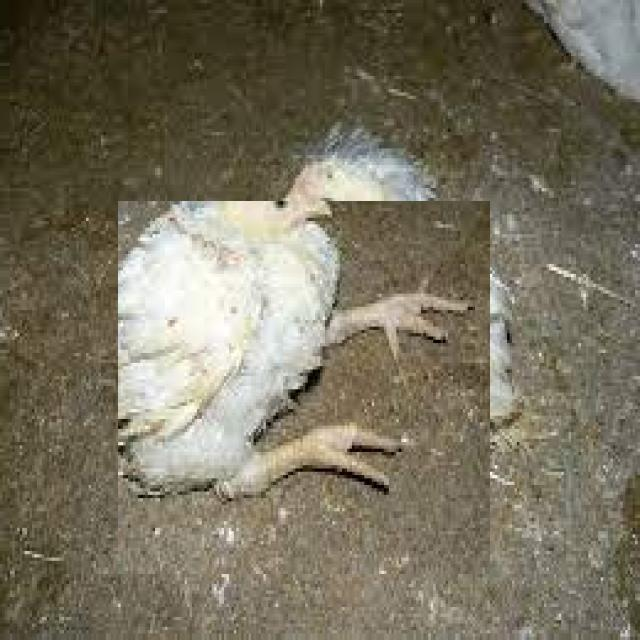AbNormal: (126, 216, 472, 497)
